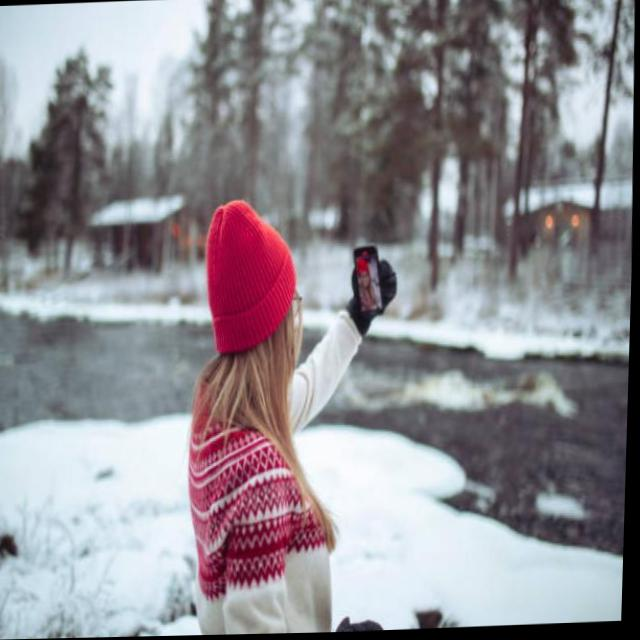no helmet: (175, 179, 326, 444)
